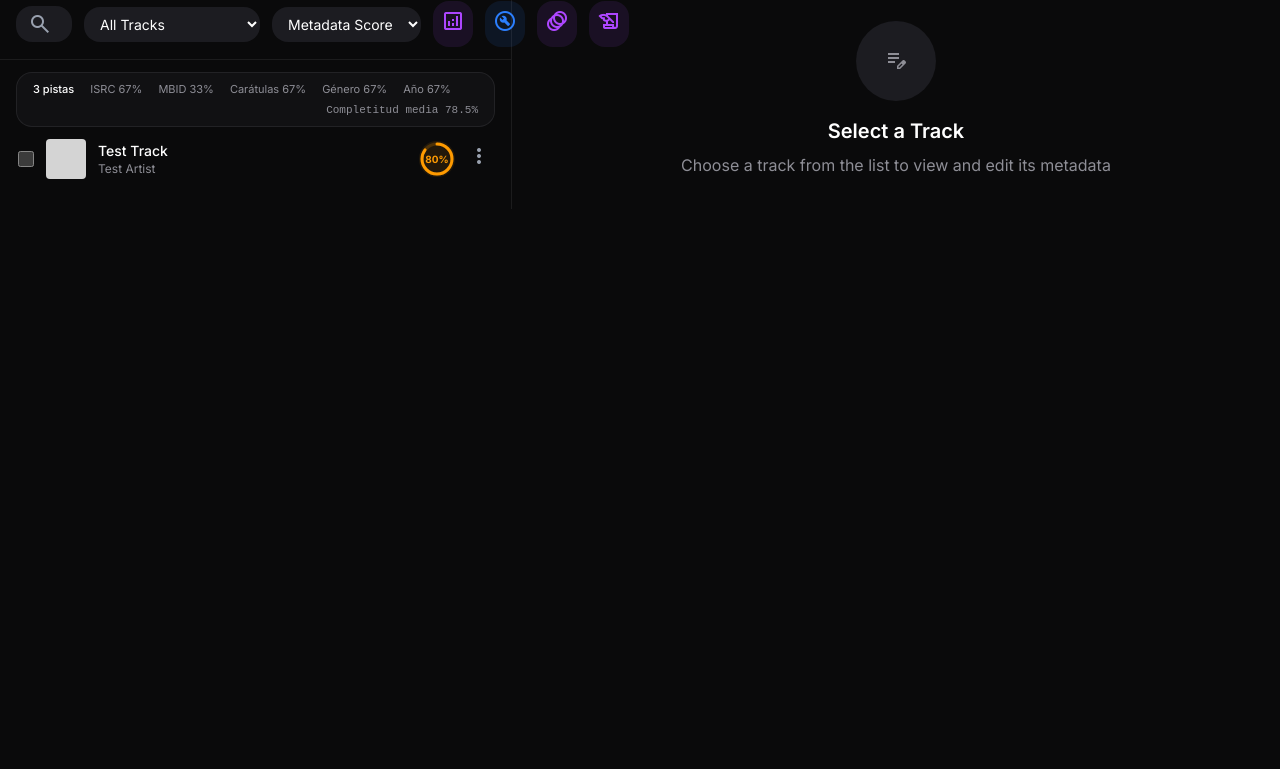
Scenario: S200: Last.fm API key + full tag visibility › plans and applies the country/region tag repair from the file-tag editor
Click the element with class "track-row" at (66, 159), box [0,127,511,191]
(page scrolled)
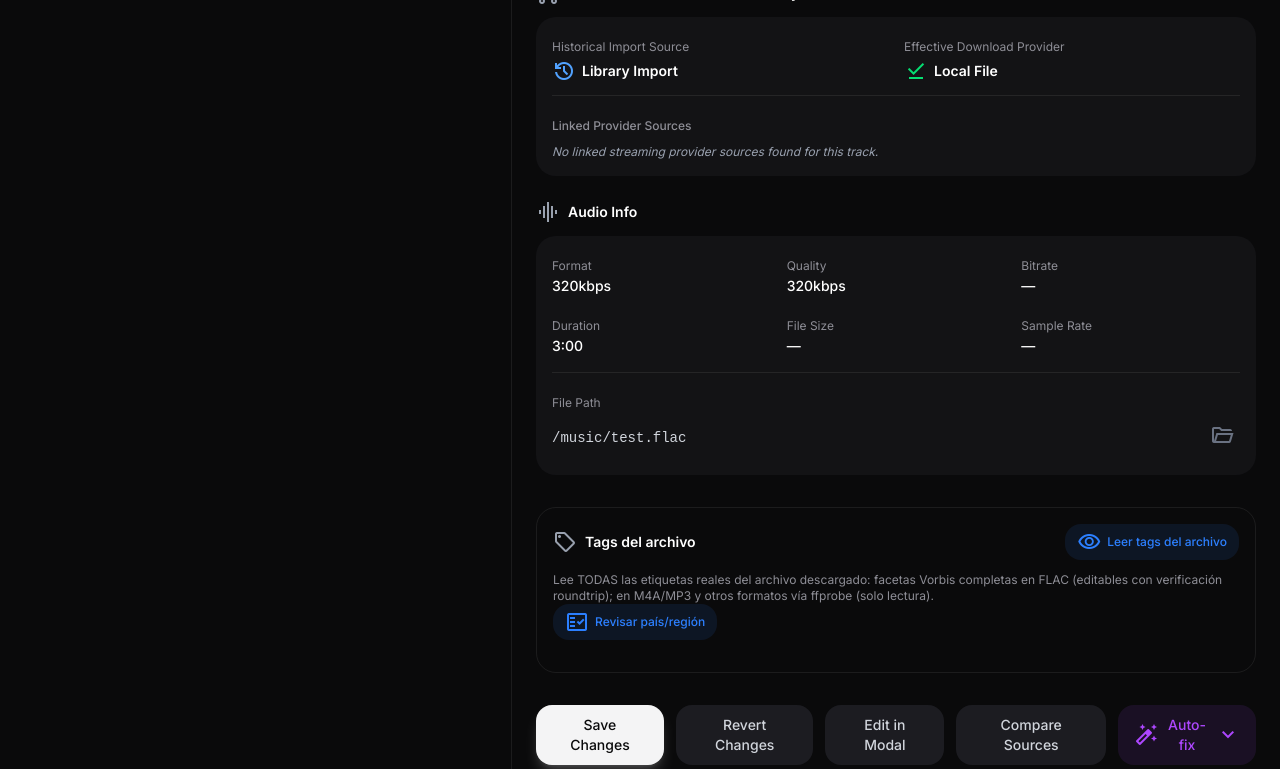
Note: The dry run is reachable without reading tags first.
Click the button "Revisar país/región" at (635, 622), box [553,604,717,640]
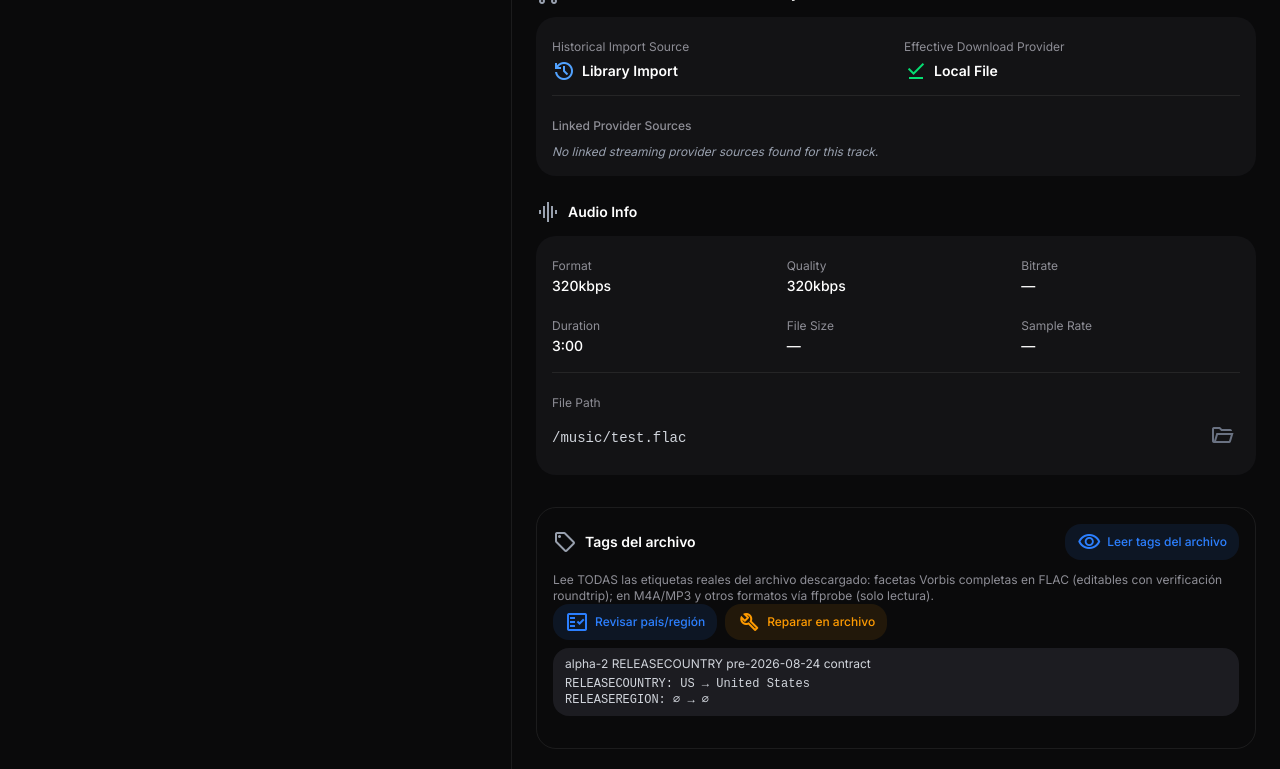
Now the text "RELEASECOUNTRY: US → United States" is shown, box [565,677,810,691]
Now the button "Reparar en archivo" is shown
Click the button "Reparar en archivo" at (806, 622), box [725,604,887,640]
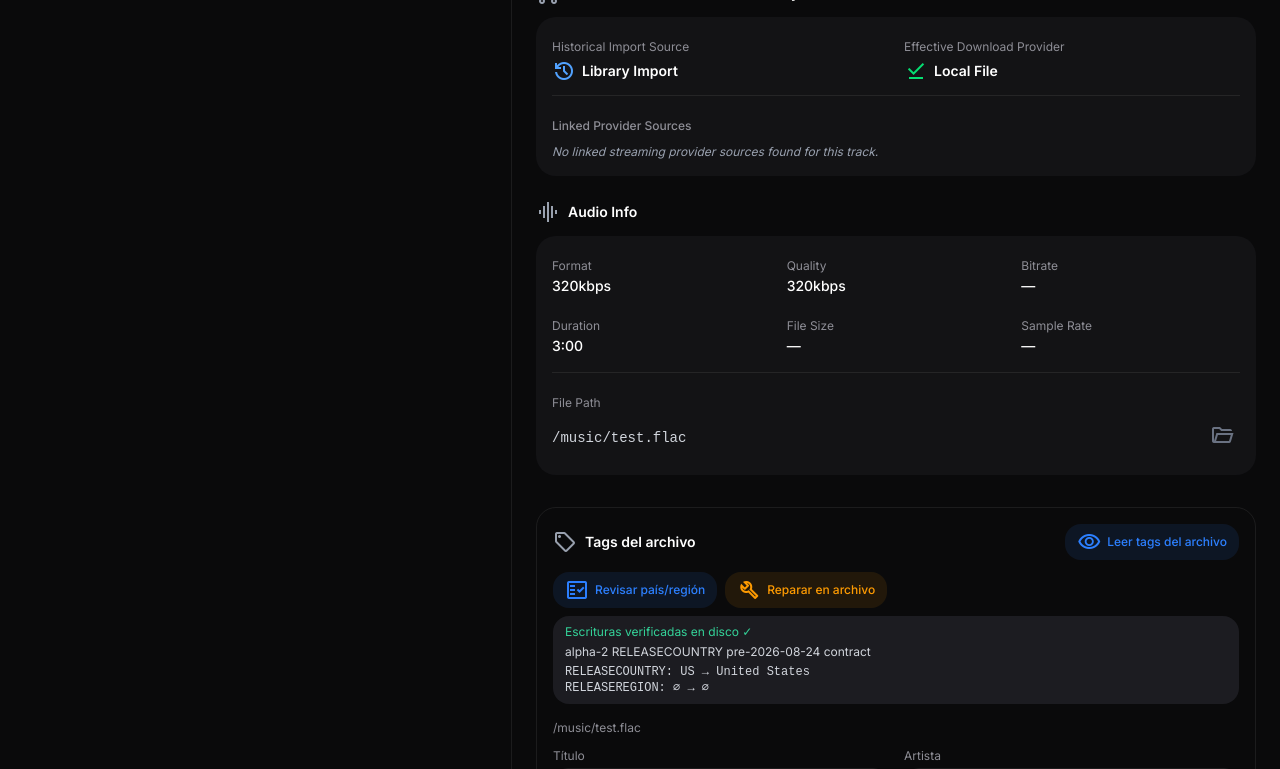
Now the text "Escrituras verificadas en disco" is shown, box [565,624,752,639]
